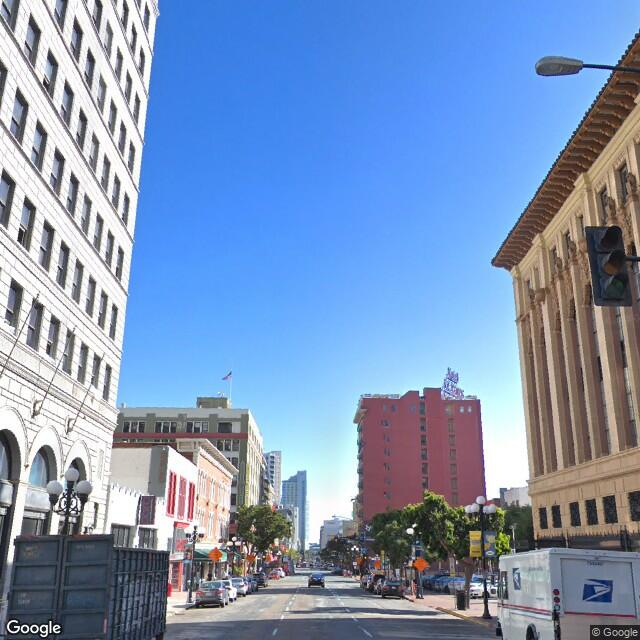light: (538, 55, 582, 79)
window: (48, 146, 60, 191), (42, 218, 52, 271)
